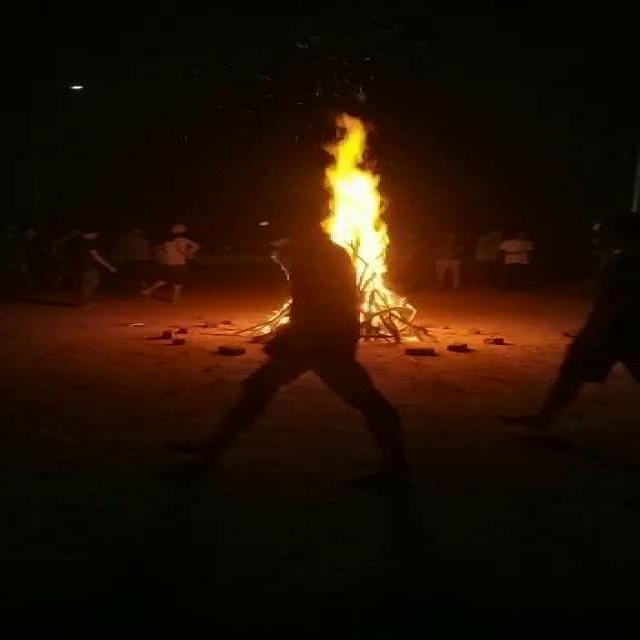fire: (282, 99, 398, 311)
